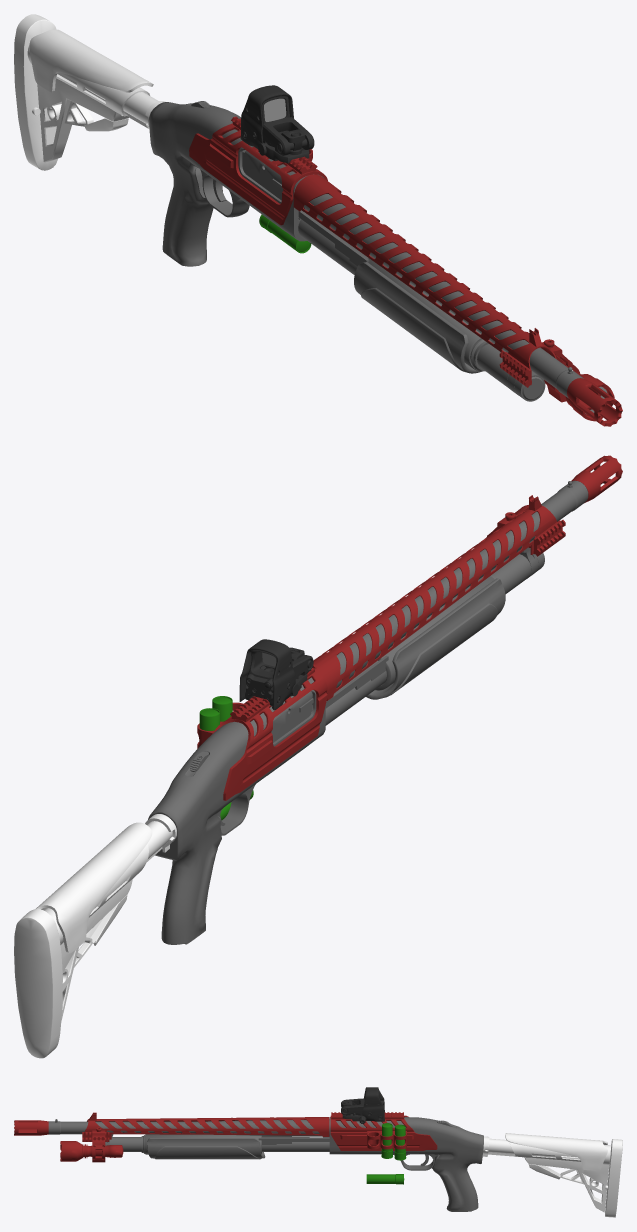
Rendered from tactical shotgun 1-3 fin  - EDIT.FBX.
3 renders of one model, top to bottom at view 1: azimuth 30°, elevation 25°; view 2: azimuth 150°, elevation 25°; view 3: azimuth 270°, elevation 25°, orthographic. The views are drawn at different scales.
Visible parts, largest first — view 1: Shotgun tactical, Butt, Options 1-005, Shotgun tactical 2, Options 1, Aim 3, Options 1-3, Options 1 -2, bullet 1; view 2: Shotgun tactical, Butt, Options 1-005, Shotgun tactical 2, Options 1, Aim 3, Options 1-3; view 3: Shotgun tactical, Butt, Options 1-005, Shotgun tactical 2, Options 1, Options 1 -2, Aim 3, Options 1-3, bullet 1, bullet 002, bullet 003, Options 1-007.
Part boxes in pixels (x1,y1,x2,y2): Shotgun tactical: (149, 101, 583, 401); Butt: (14, 14, 165, 170); Options 1-005: (293, 174, 565, 387); Shotgun tactical 2: (298, 210, 482, 373); Options 1: (189, 116, 327, 225); Aim 3: (240, 85, 314, 163); Options 1-3: (567, 378, 622, 426); Options 1 -2: (542, 339, 614, 421); bullet 1: (259, 214, 311, 253); Shotgun tactical: (148, 480, 588, 944); Butt: (14, 814, 176, 1058); Options 1-005: (313, 495, 565, 700); Shotgun tactical 2: (309, 576, 505, 716); Options 1: (213, 664, 327, 800); Aim 3: (239, 639, 313, 710); Options 1-3: (571, 455, 622, 502); Shotgun tactical: (48, 1117, 483, 1211); Butt: (482, 1133, 622, 1217); Options 1-005: (82, 1112, 329, 1141); Shotgun tactical 2: (145, 1134, 329, 1159); Options 1: (330, 1112, 437, 1150); Options 1 -2: (60, 1127, 123, 1162); Aim 3: (341, 1087, 384, 1123); Options 1-3: (14, 1120, 48, 1135); bullet 1: (366, 1174, 404, 1184); bullet 002: (394, 1124, 406, 1160); bullet 003: (381, 1123, 392, 1158); Options 1-007: (367, 1131, 380, 1149).
Size of the model in its own units: 58.47 by 187 by 807.
